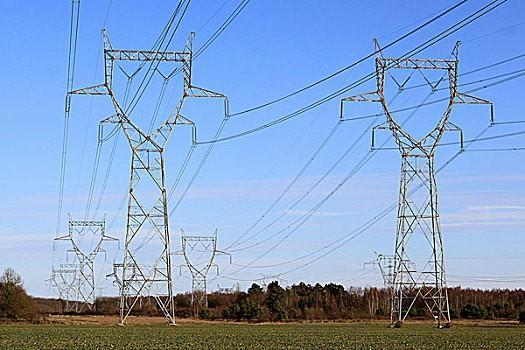power_tower: (331, 37, 497, 332), (92, 27, 232, 326), (61, 204, 115, 316), (176, 222, 222, 316)
